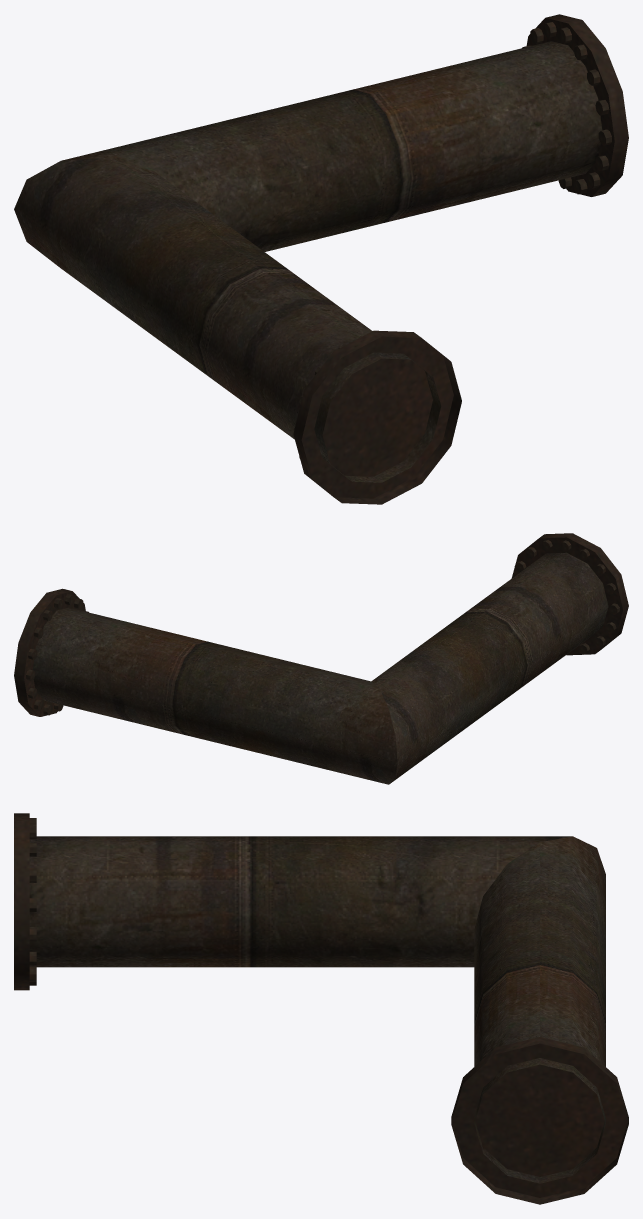
The model's file is pipe_bx_3.obj.
3 views of the same model, one above another, from view 1: azimuth 30°, elevation 25°; view 2: azimuth 150°, elevation 25°; view 3: azimuth 270°, elevation 25° (orthographic). The views are drawn at different scales.
Visible parts, largest first — view 1: pipe_bx_3; view 2: pipe_bx_3; view 3: pipe_bx_3.
Boxes of the visible parts, box(x1,y1,x2,y2) form: pipe_bx_3: box(14, 14, 628, 504); pipe_bx_3: box(14, 533, 628, 784); pipe_bx_3: box(14, 813, 628, 1204).
Size of the model in its own units: 2.34 by 0.676 by 2.34.
